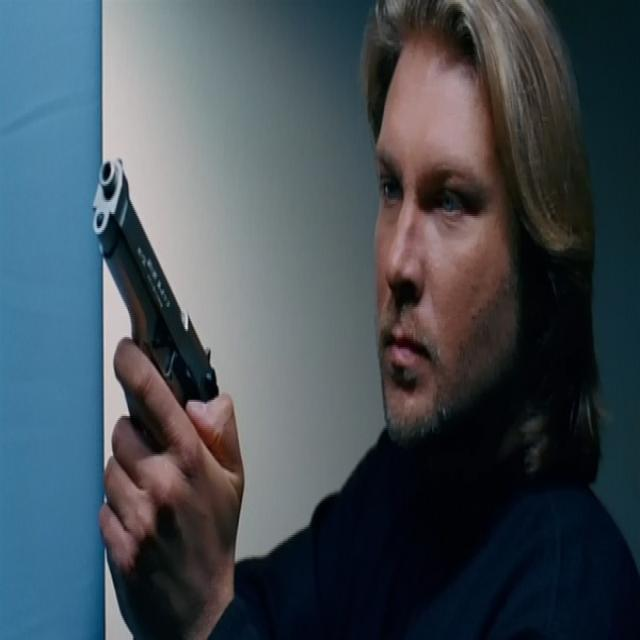weapons: (76, 106, 230, 595)
